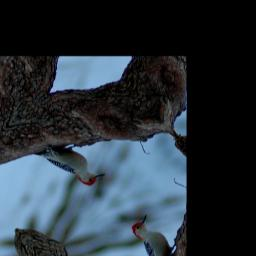Woodpecker: (32, 130, 108, 199)
